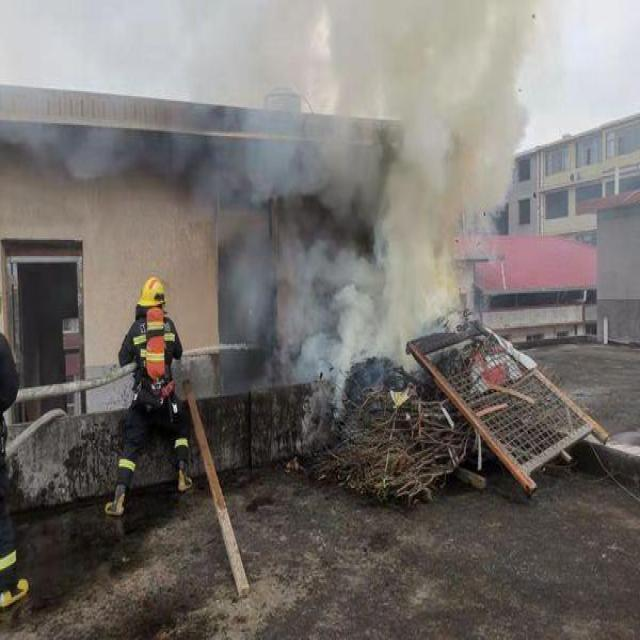Smoke: (233, 0, 536, 335)
